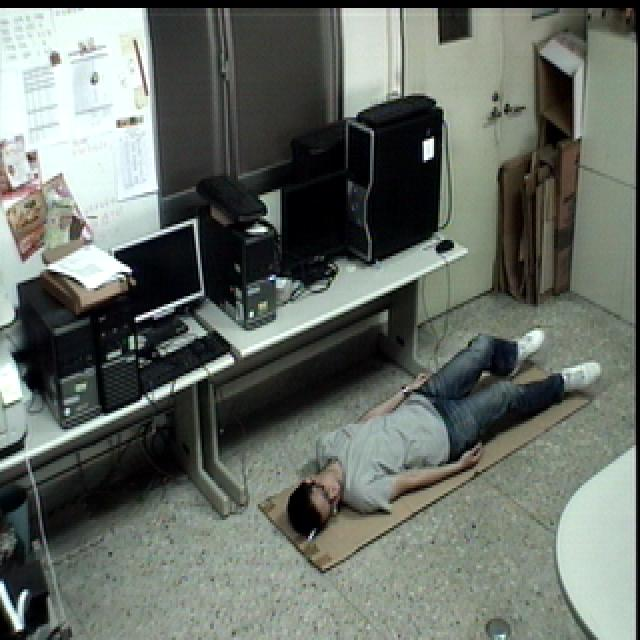lie: (282, 317, 602, 548)
